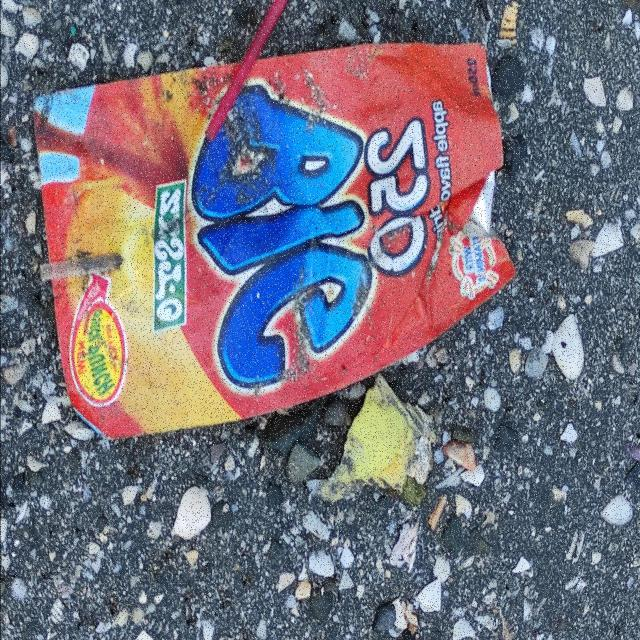plastic_waste: (36, 33, 512, 438)
